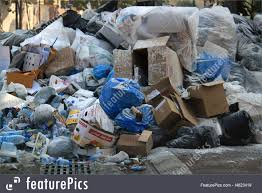garbage: (52, 6, 262, 174), (2, 33, 254, 171)
